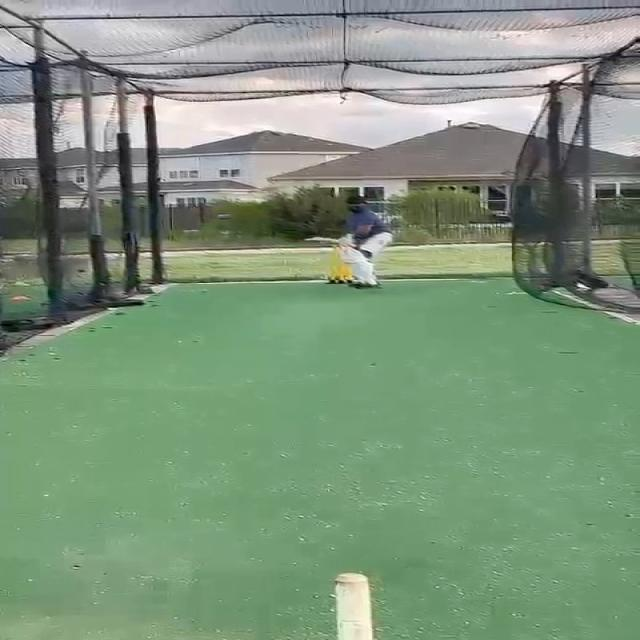batsman: (302, 194, 398, 291)
